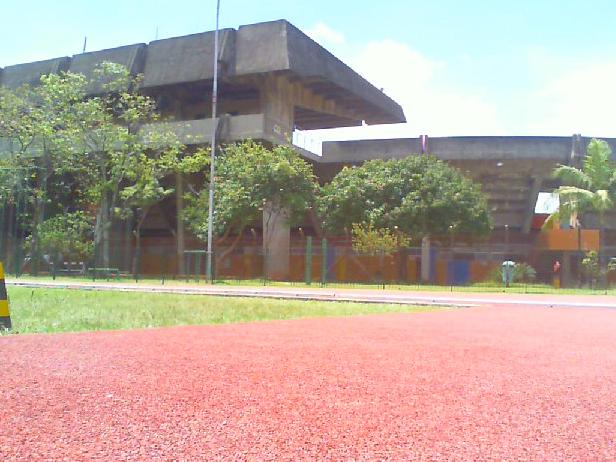0 cone: (0, 234, 15, 334)
